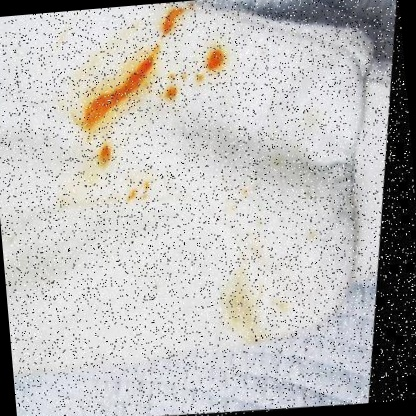kimchi: (65, 45, 173, 134), (214, 231, 273, 349), (215, 154, 281, 211), (189, 36, 235, 88), (153, 3, 200, 40), (119, 177, 164, 208), (85, 139, 126, 170), (160, 72, 184, 103), (272, 297, 292, 315), (303, 227, 322, 245)
